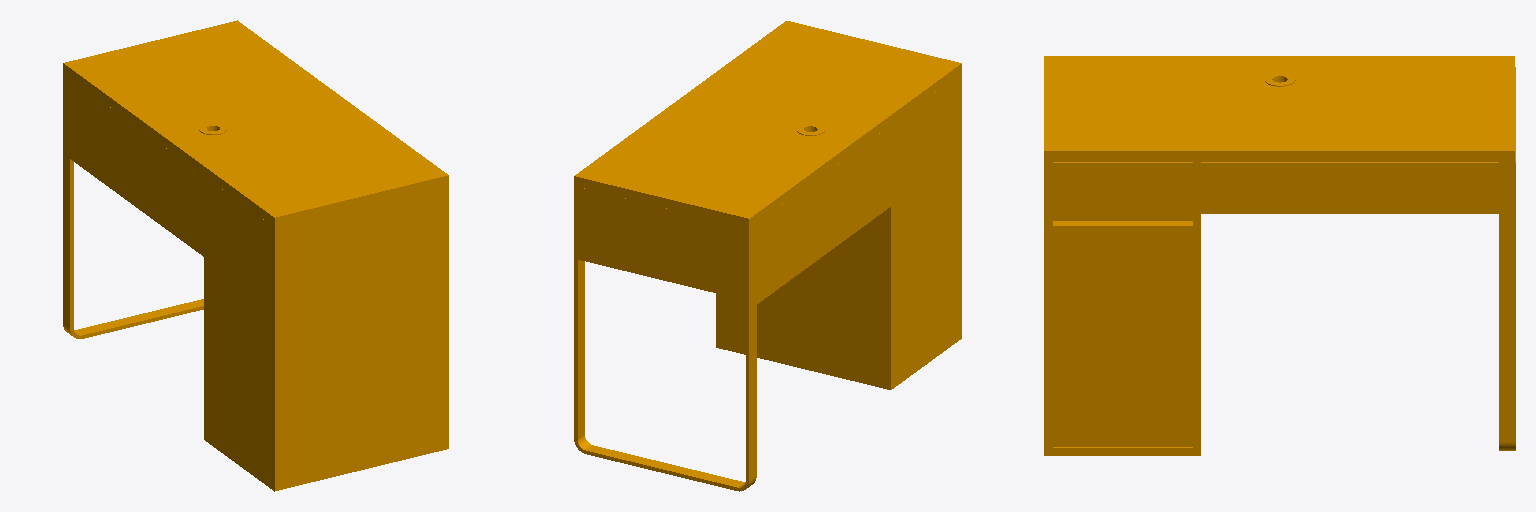
The robot description file, URDF, robot "xHaIPapp":
<?xml version='1.0' encoding='us-ascii'?>
<robot name="xHaIPapp">
   <link name="base_link">
      <visual>
         <origin xyz="0.0 0.0 0.0" />
         <geometry>
            <mesh filename="shape\visual\desk-zlyqcq-0.obj" />
         </geometry>
      </visual>
      <collision>
         <origin xyz="0.0 0.0 0.0" />
         <geometry>
            <mesh filename="shape\collision\desk-zlyqcq-0.obj" />
         </geometry>
      </collision>
   </link>
</robot>

--- Render facts (derived) ---
3 views of the same robot in one strip: view 1: azimuth 30°, elevation 25°; view 2: azimuth 150°, elevation 25°; view 3: azimuth 270°, elevation 25° (orthographic).
Model xHaIPapp with 1 links and 0 joints (none), rooted at base_link, posed all joints at 0.
Links seen in each view (by area): view 1: base_link; view 2: base_link; view 3: base_link.
Link boxes in pixels (box(x1,y1,x2,y2)): base_link: box(63, 20, 448, 491); base_link: box(574, 21, 961, 491); base_link: box(1044, 56, 1515, 455).
Size in the robot's own frame: 0.5 by 1.05 by 0.7525 metres.
Meshes: 1 distinct files referenced, 1 mesh visuals loaded (1 OBJ).